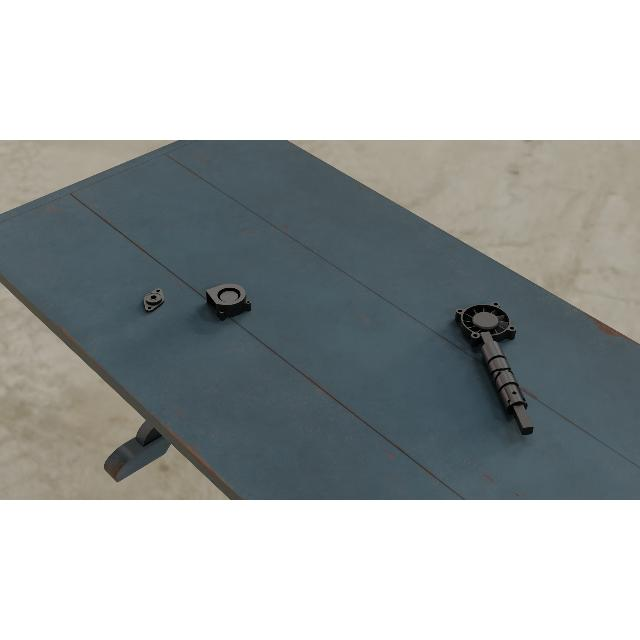Pieza1: (474, 328, 540, 440)
Pieza2: (138, 286, 170, 314)
Pieza3: (205, 280, 253, 322)
Pieza4: (453, 301, 519, 349)
